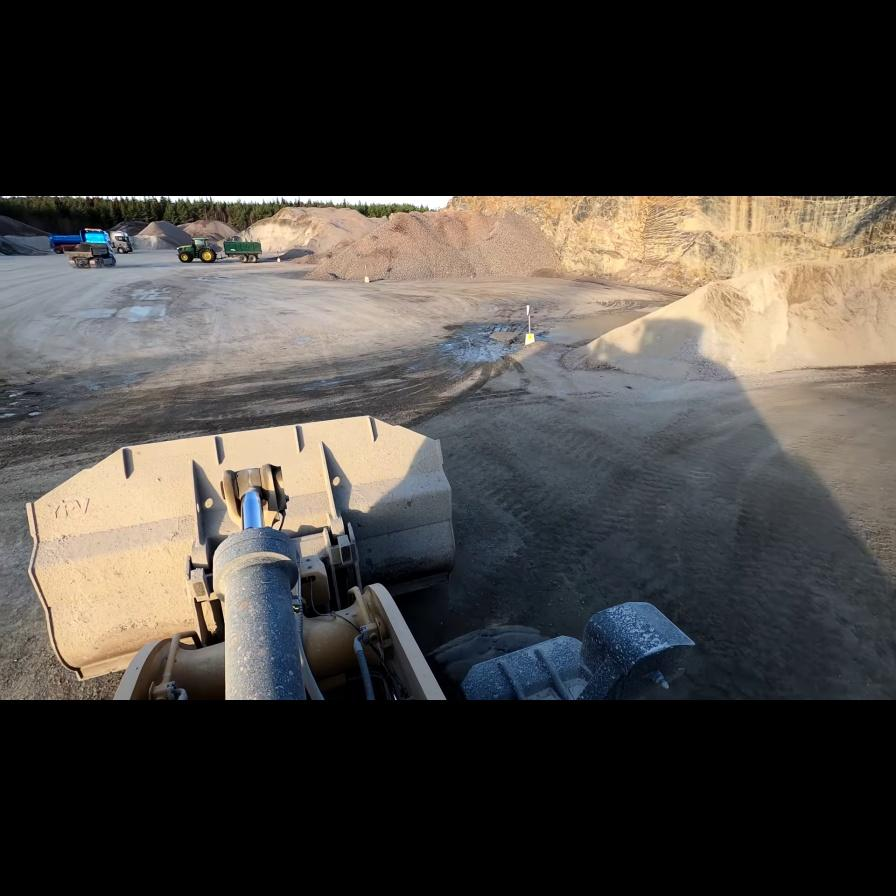anchor: (221, 465, 286, 528)
pile of gravel: (564, 254, 894, 380), (305, 206, 554, 284), (243, 206, 378, 260), (0, 213, 58, 257), (130, 220, 195, 251), (180, 219, 239, 243)
